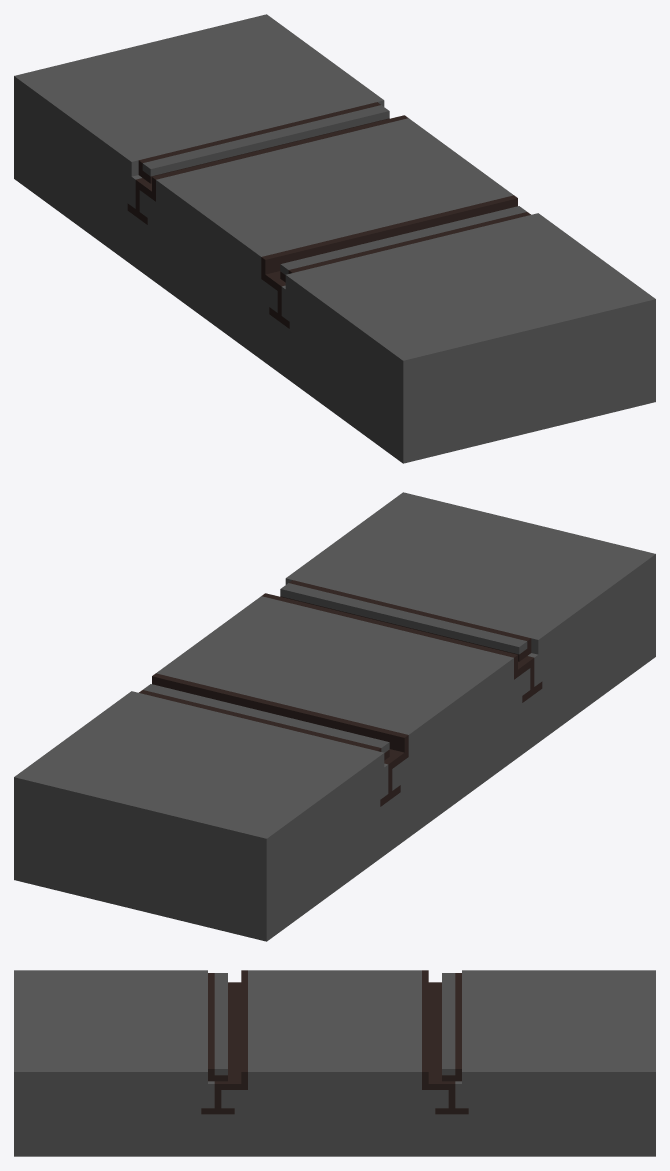
File: voxel-narrow-highbed.obj
3 renders of one model, top to bottom at view 1: azimuth 30°, elevation 25°; view 2: azimuth 150°, elevation 25°; view 3: azimuth 270°, elevation 25°, orthographic. The views are drawn at different scales.
Parts seen in each view (by area): view 1: RAIL_BASE, RAIL_RIGHT, RAIL_LEFT; view 2: RAIL_BASE, RAIL_LEFT, RAIL_RIGHT; view 3: RAIL_BASE, RAIL_RIGHT, RAIL_LEFT.
Boxes of the visible parts, x1,y1,x2,y2 form: RAIL_BASE: (14, 14, 655, 463); RAIL_RIGHT: (138, 102, 389, 183); RAIL_LEFT: (280, 206, 530, 282); RAIL_BASE: (14, 492, 655, 941); RAIL_LEFT: (280, 580, 531, 661); RAIL_RIGHT: (139, 684, 389, 760); RAIL_BASE: (14, 970, 655, 1156); RAIL_RIGHT: (442, 973, 461, 1081); RAIL_LEFT: (208, 973, 227, 1081).
Bounding box in the file's own units: 1.12 × 0.4375 × 3.
1 material, 1 textured.
